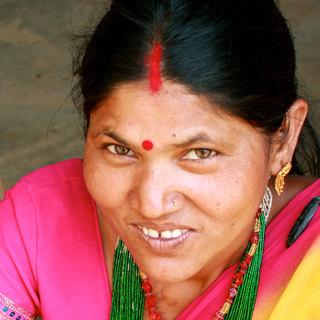eye: (94, 135, 142, 166), (175, 142, 226, 168)
